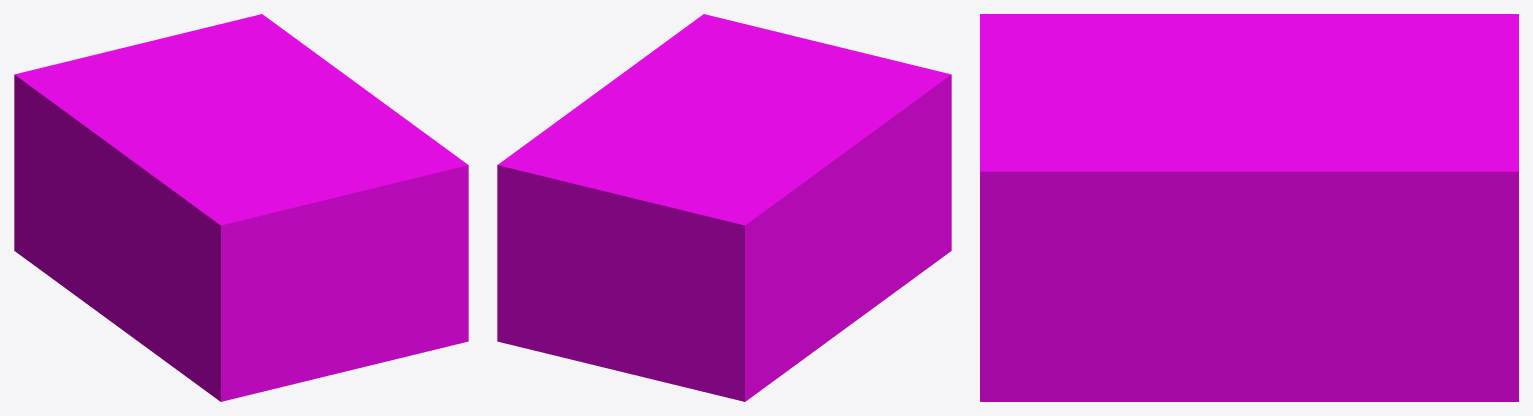
Rendered from layout_test3.gltf.
3 views of the same model, side by side, from view 1: azimuth 30°, elevation 25°; view 2: azimuth 150°, elevation 25°; view 3: azimuth 270°, elevation 25° (orthographic). The views are drawn at different scales.
Parts seen in each view (by area): view 1: pasted__pCube1; view 2: pasted__pCube1; view 3: pasted__pCube1.
Part boxes in pixels (<box>): pasted__pCube1: <box>14,14,468,401</box>; pasted__pCube1: <box>497,14,951,401</box>; pasted__pCube1: <box>980,14,1518,401</box>.
Size of the model in its own units: 16.31 by 11.1 by 23.54.
